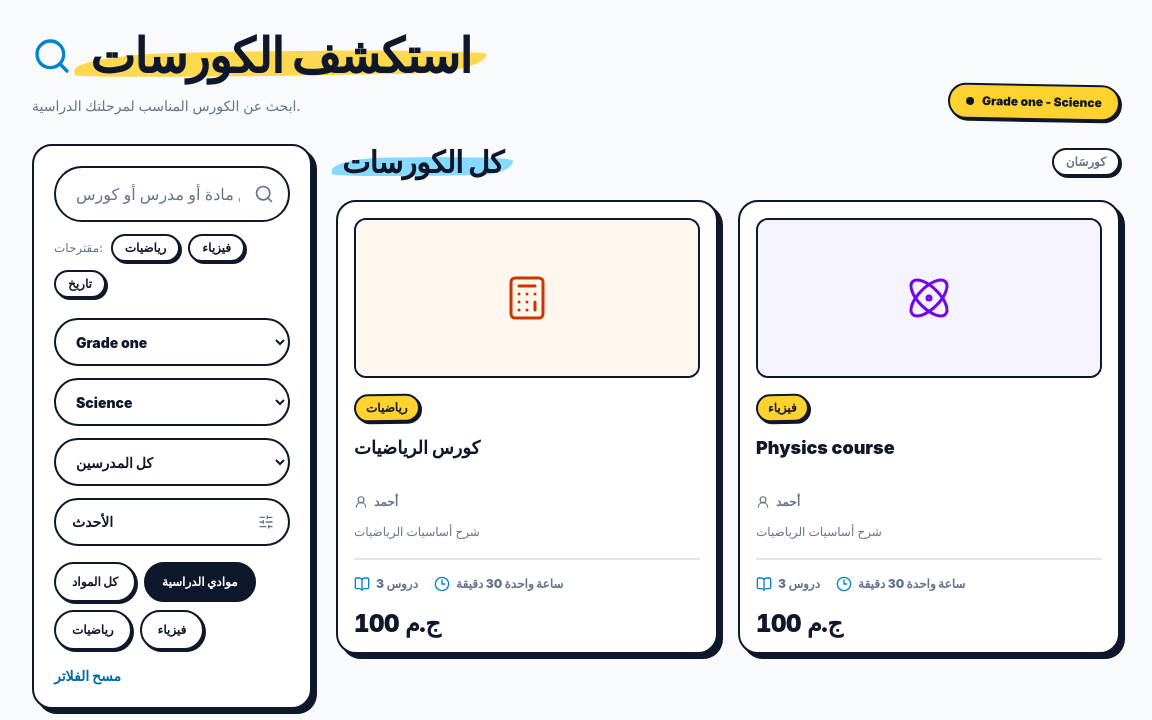
Test: ExploreCourses › filters by all the profile's subjects when it has more than one
Expected: the heading "History course" is not shown
Expected: the heading "Physics course" is shown, [756, 437, 895, 458]
What coordinates should you click on to do the following:
click the button "كل المواد"
I would click on:
 (95, 582)
Its box is [54, 562, 136, 602].
(page scrolled)
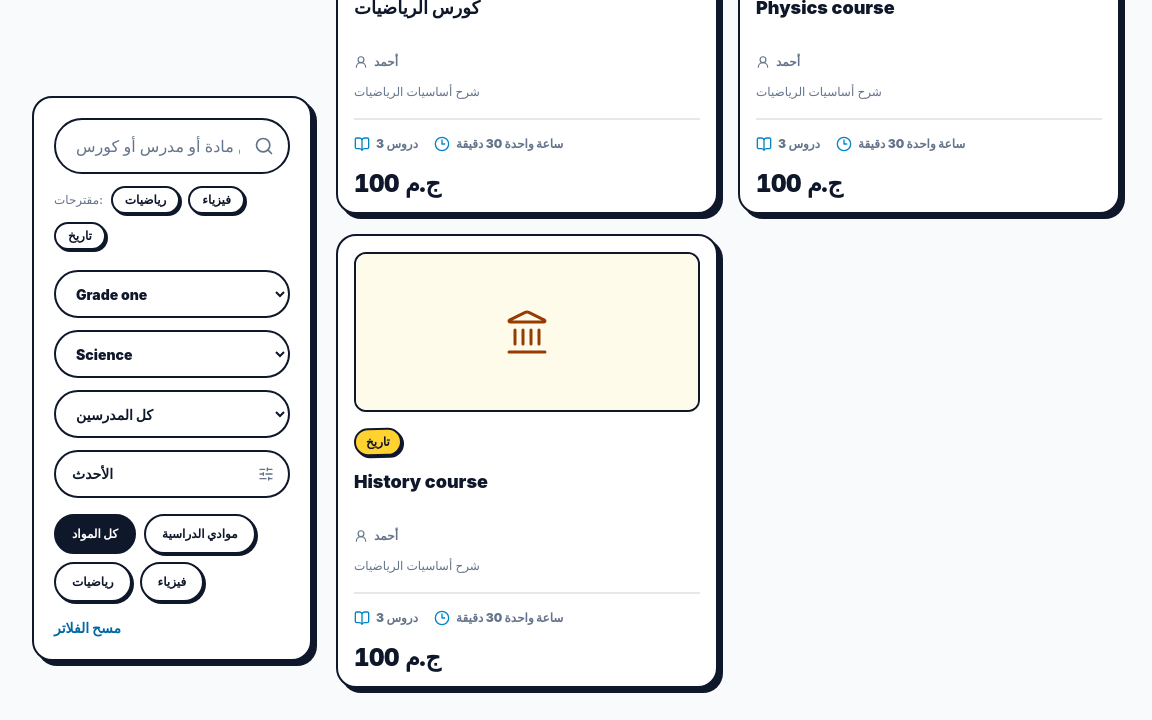
Result: the heading "History course" is shown at [354, 471, 488, 492]
